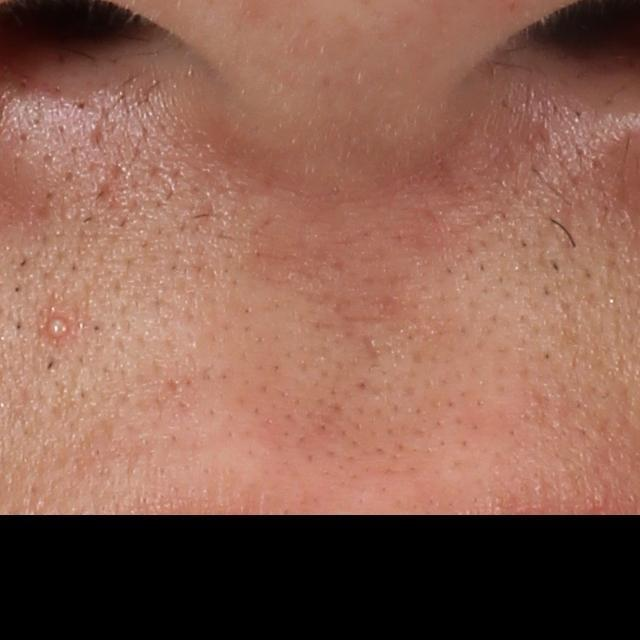pustule: (47, 314, 74, 341)
